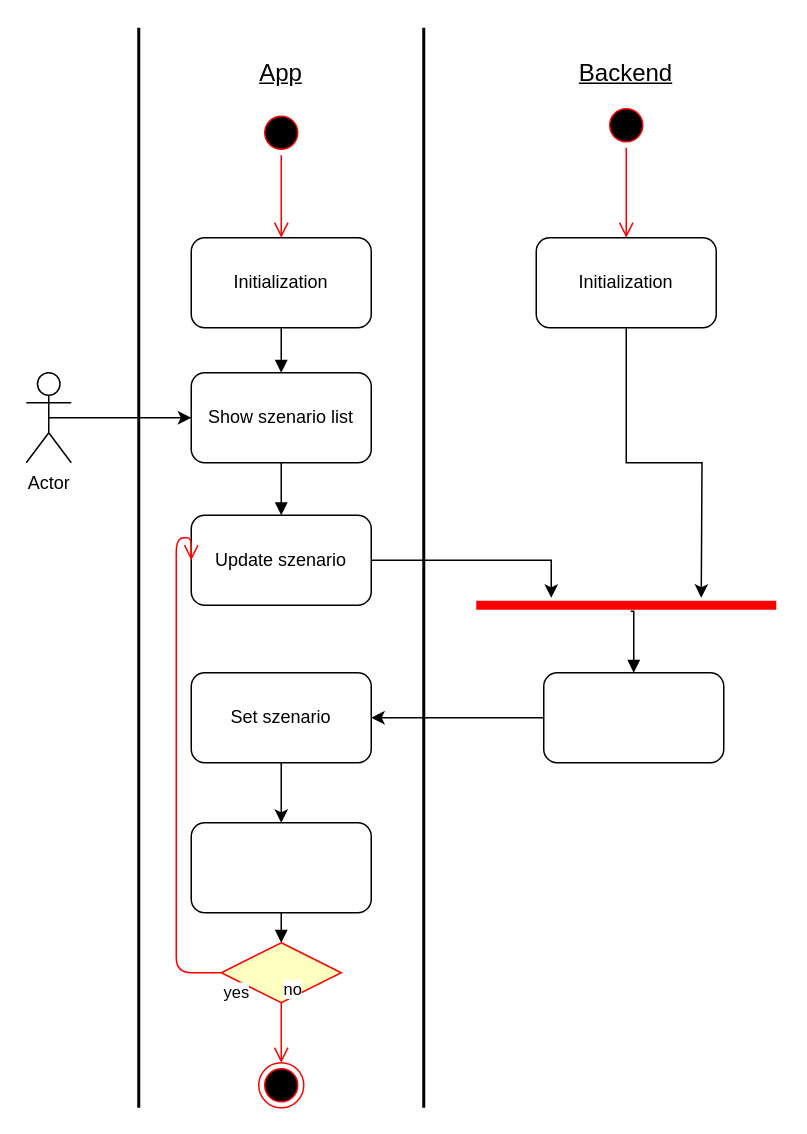
Image size: 807x1134. Some labels were removed from this diagram. Here are the shapes that lost their labels. From the top down, the box of each, then its label:
(542, 671, 724, 763): Update
(190, 821, 371, 913): Show szenario
(220, 941, 341, 1003): Refresh
